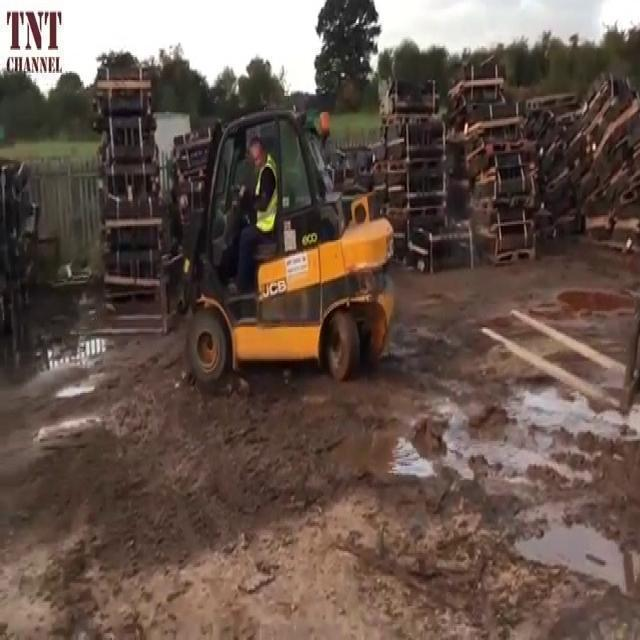forklift: (173, 93, 397, 390)
